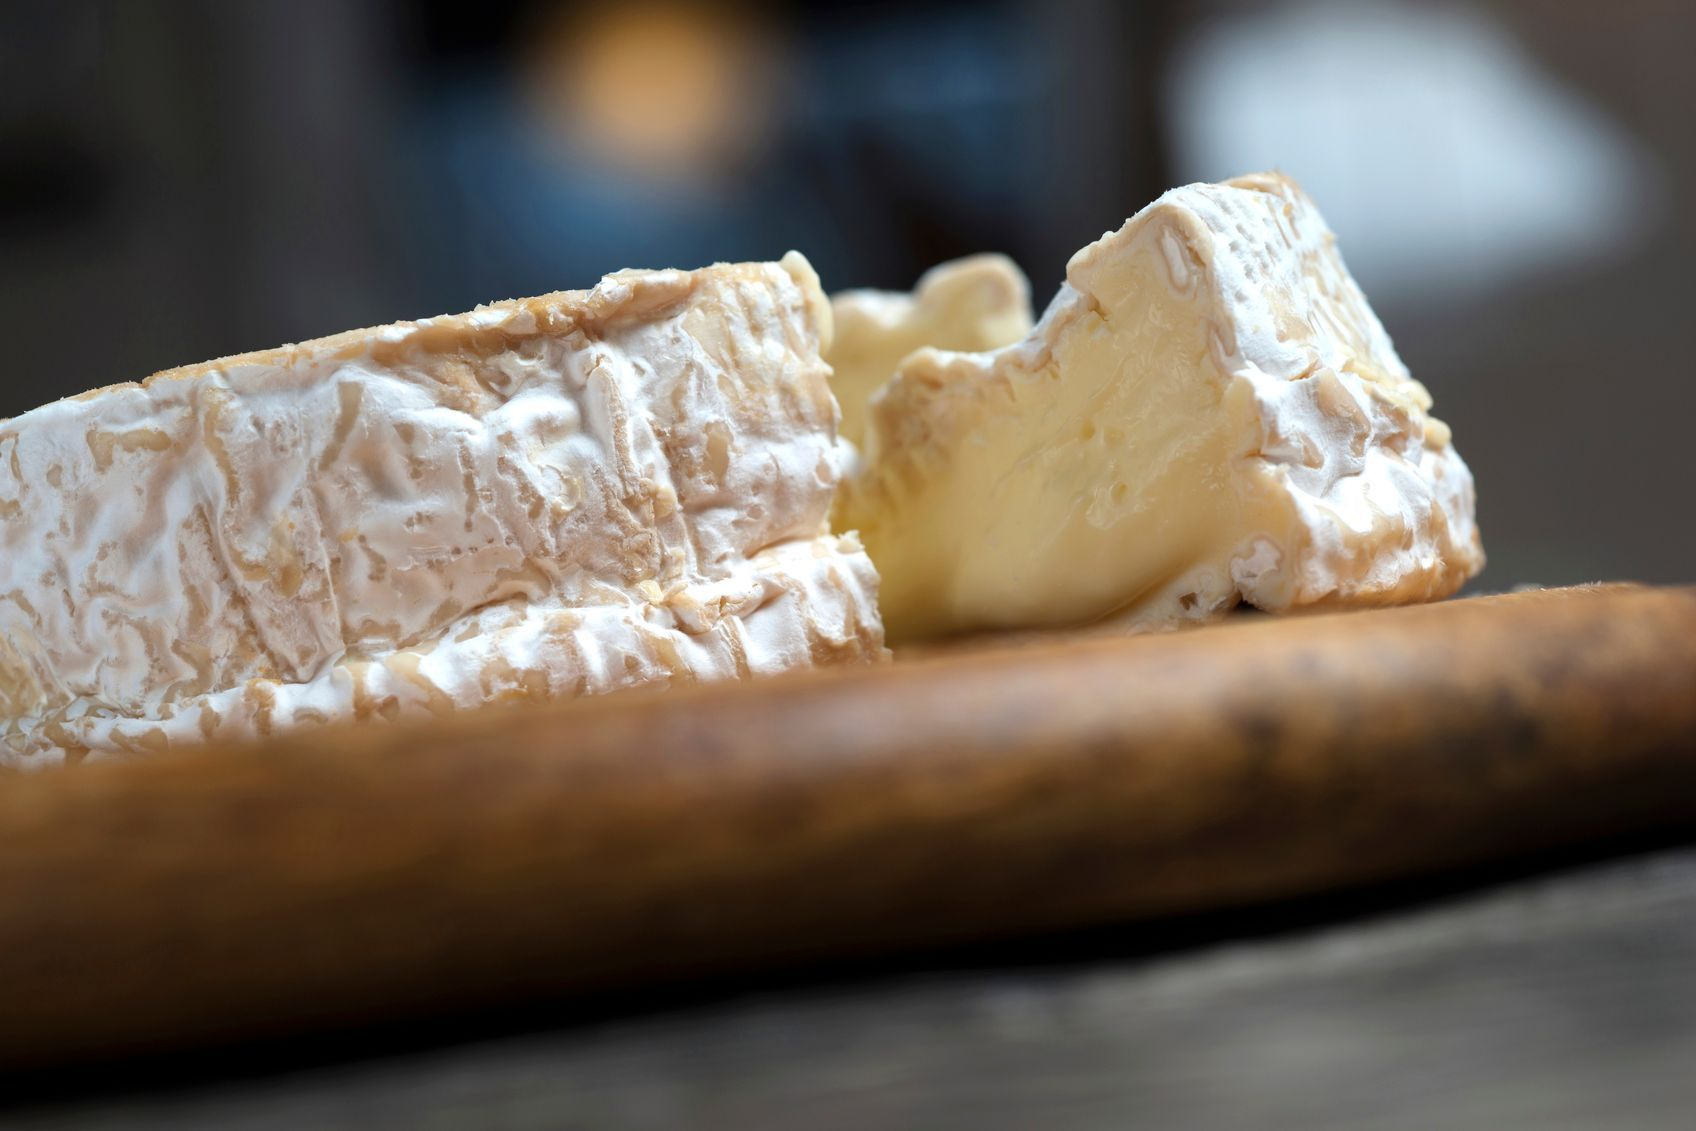camembert: (1, 169, 1485, 781)
